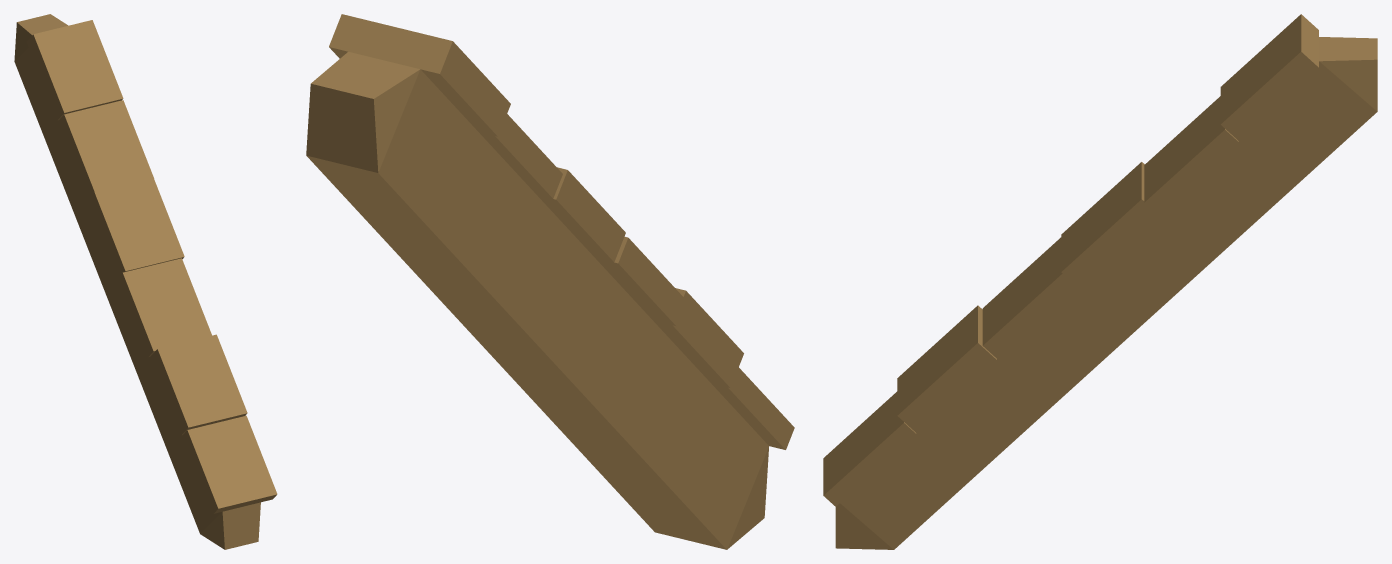
Rendered from RoofSideB.fbx.
3 views of the same model, side by side, from view 1: azimuth 30°, elevation 25°; view 2: azimuth 150°, elevation 25°; view 3: azimuth 270°, elevation 25° (orthographic). The views are drawn at different scales.
Parts seen in each view (by area): view 1: RoofSideB; view 2: RoofSideB; view 3: RoofSideB.
Boxes of the visible parts, box(x1,y1,x2,y2) form: RoofSideB: box(14, 14, 277, 549); RoofSideB: box(306, 14, 794, 549); RoofSideB: box(823, 14, 1377, 549).
Size of the model in its own units: 39.08 by 231 by 229.
